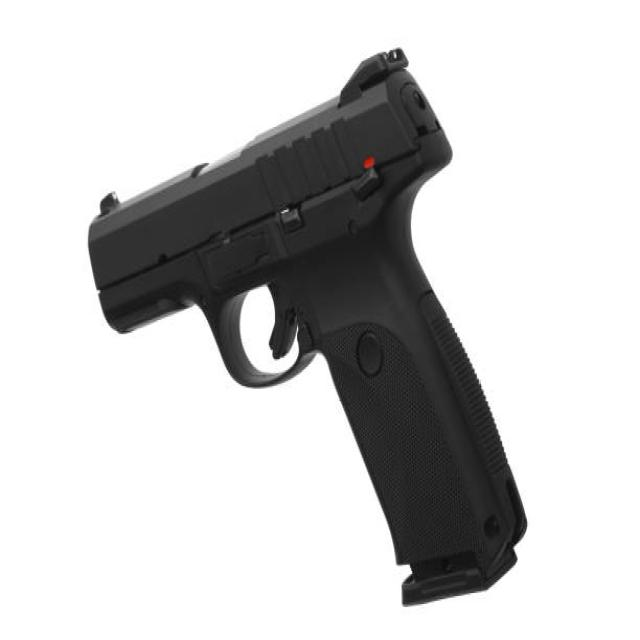pistol: (76, 41, 539, 610)
